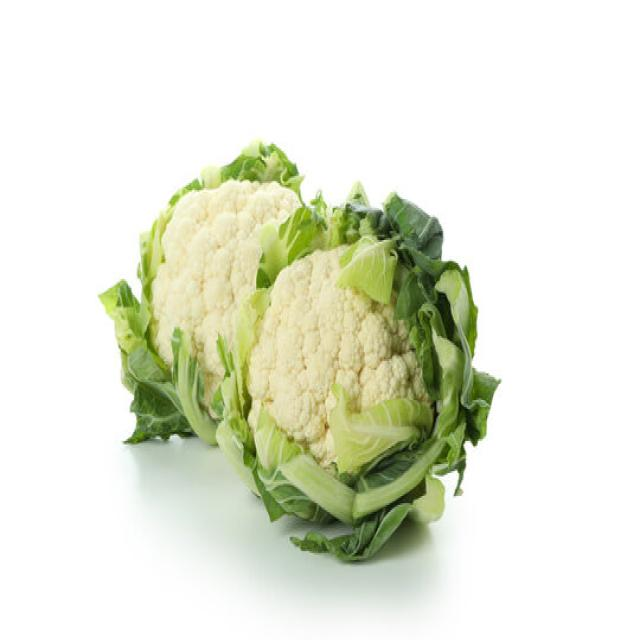Cauliflower: (237, 229, 465, 542), (137, 145, 301, 429)
